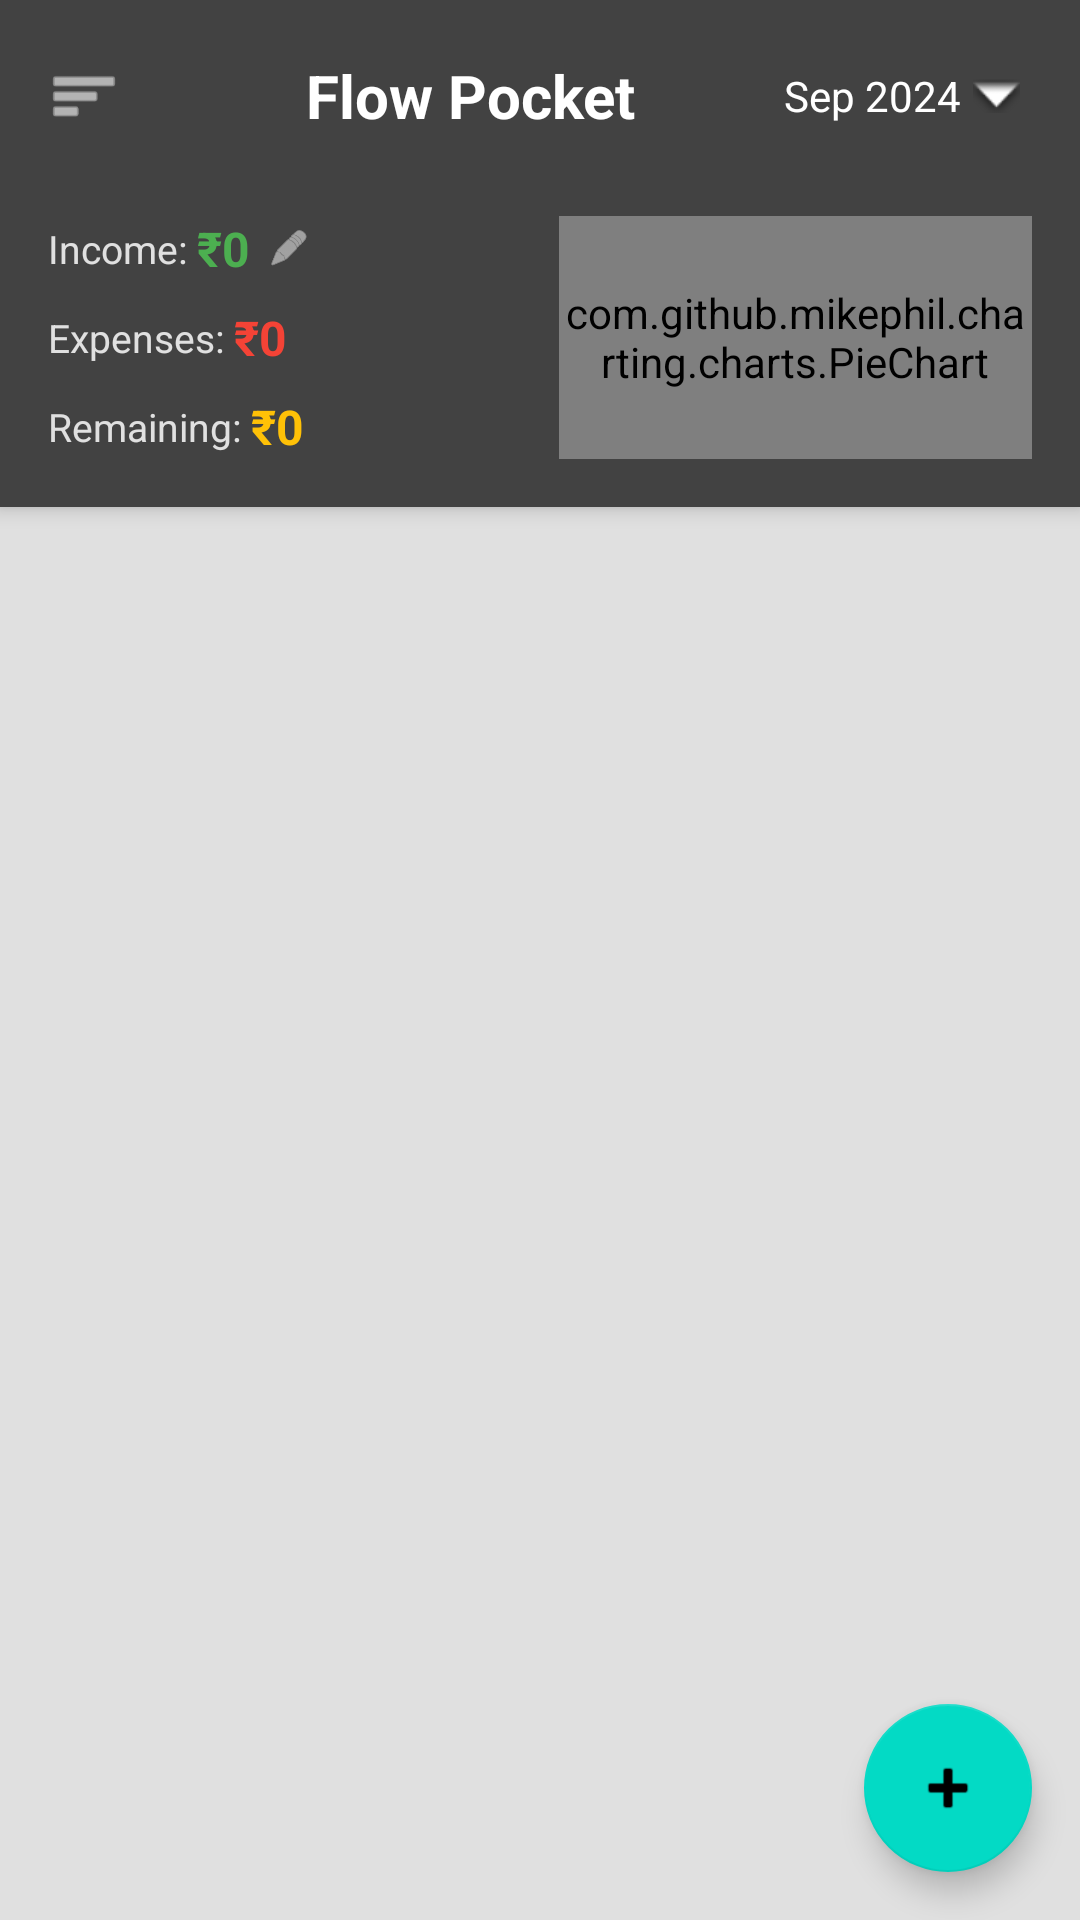

Icons on this 1080*1920 Android screen, each with the point to tap as (x=x, y=y):
add: (x=948, y=1788)
edit: (x=289, y=247)
